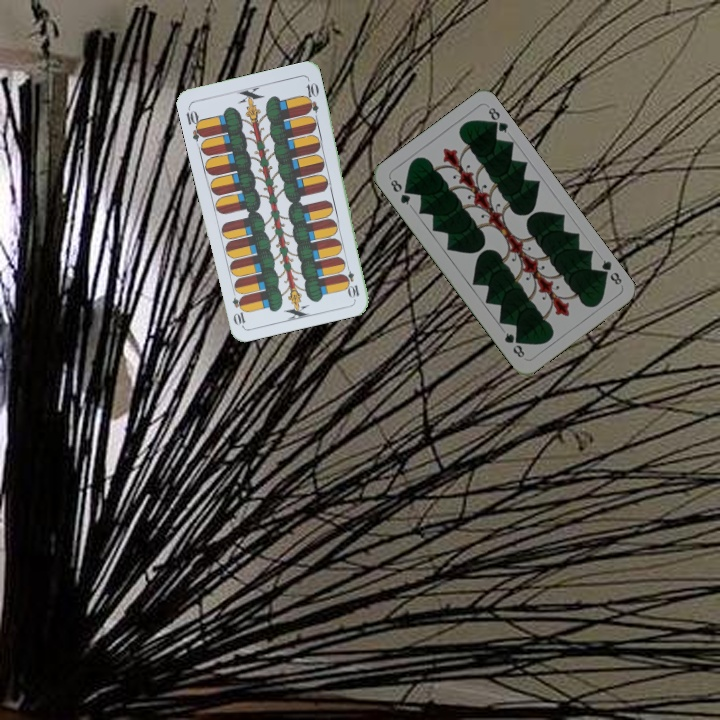E10: (182, 103, 207, 143), (341, 260, 362, 300)
G8: (595, 256, 624, 287), (386, 175, 413, 208)
